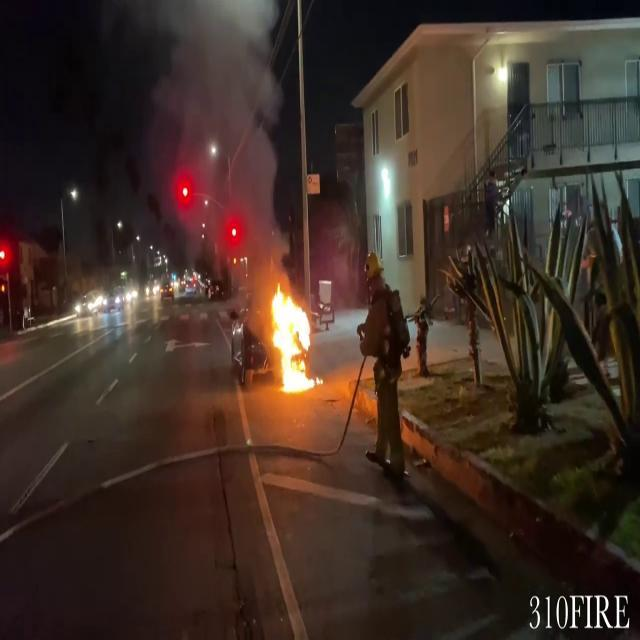Fire: (266, 277, 318, 394)
Smoke: (154, 1, 290, 274)
